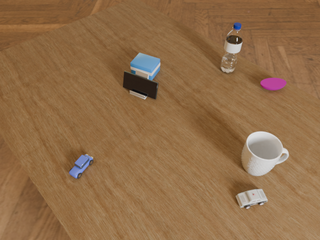bottle: (220, 23, 243, 73)
box: (131, 53, 160, 80)
cup: (241, 132, 289, 176)
mouse: (261, 78, 286, 90)
phone: (123, 71, 158, 99)
toy_car: (236, 189, 267, 209), (69, 154, 93, 178)
